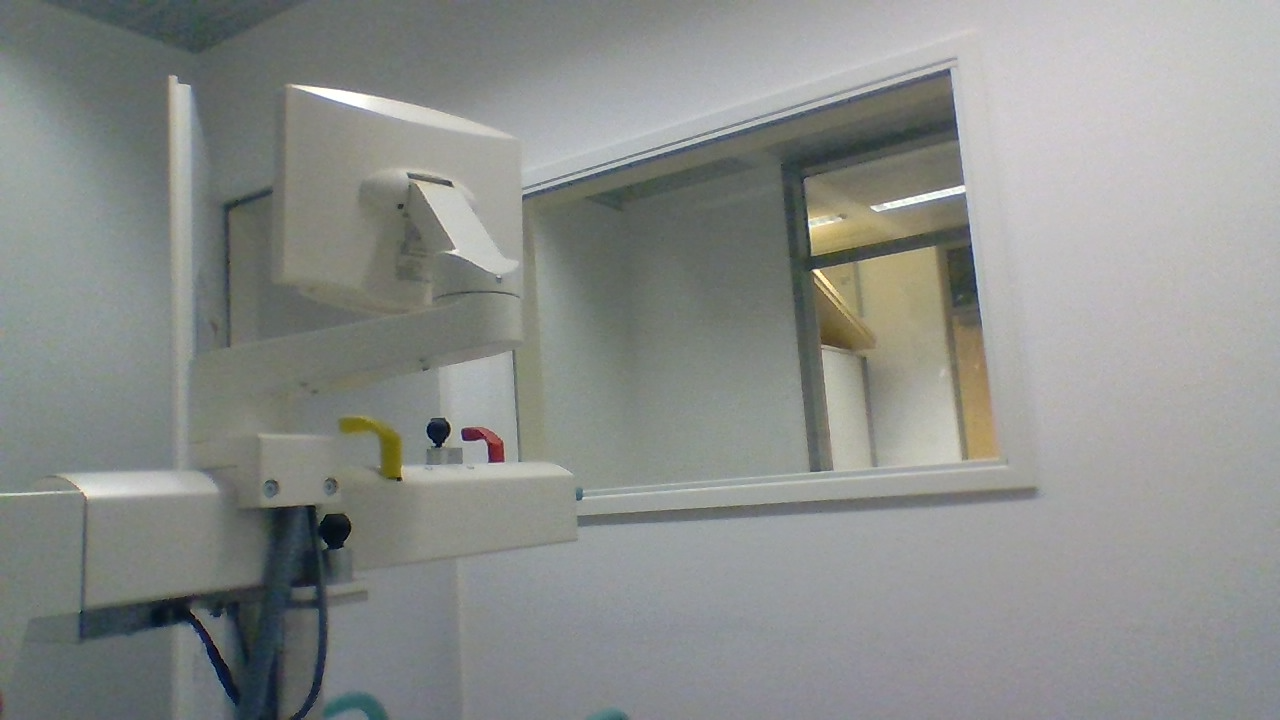carmSCREEN: (272, 80, 523, 312)
